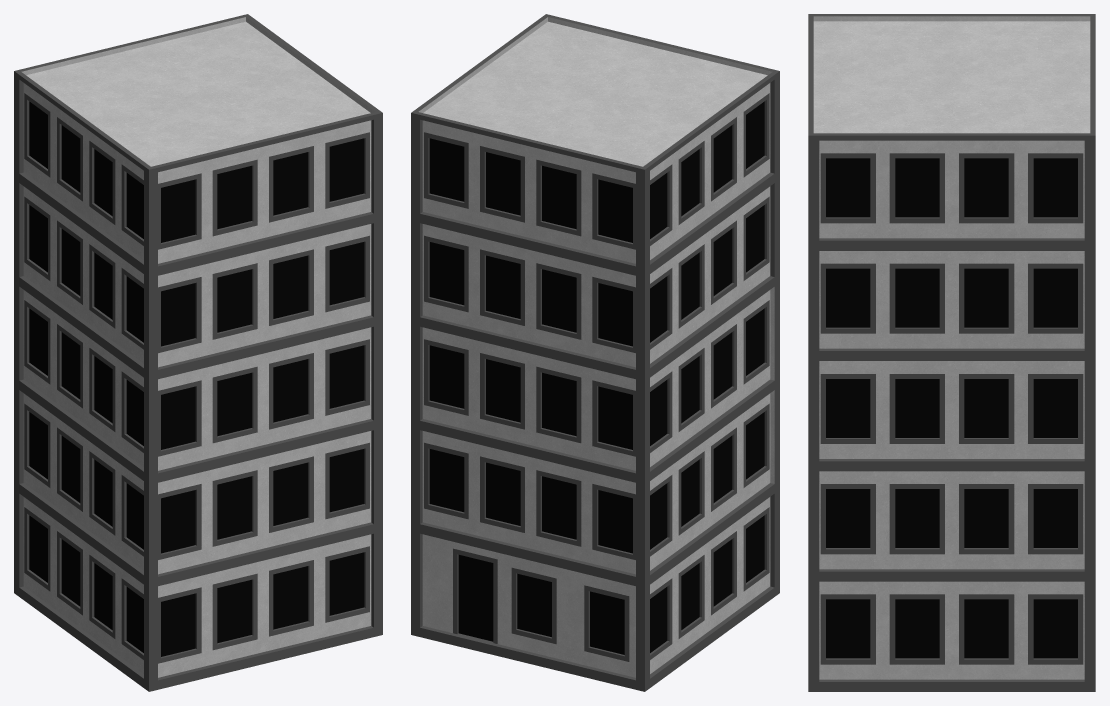
The model's file is WindowyBuilding.fbx.
3 views of the same model, side by side, from view 1: azimuth 30°, elevation 25°; view 2: azimuth 150°, elevation 25°; view 3: azimuth 270°, elevation 25° (orthographic). The views are drawn at different scales.
Visible parts, largest first — view 1: WindowyBuilding; view 2: WindowyBuilding; view 3: WindowyBuilding.
Part boxes in pixels (bbox=[...]): WindowyBuilding: bbox=[14, 14, 382, 691]; WindowyBuilding: bbox=[411, 14, 779, 691]; WindowyBuilding: bbox=[808, 14, 1095, 691].
Size of the model in its own units: 5.2 by 11.1 by 5.2.
